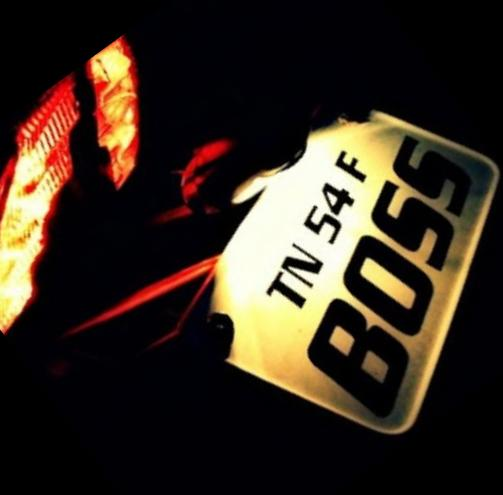plate: (138, 84, 503, 459)
